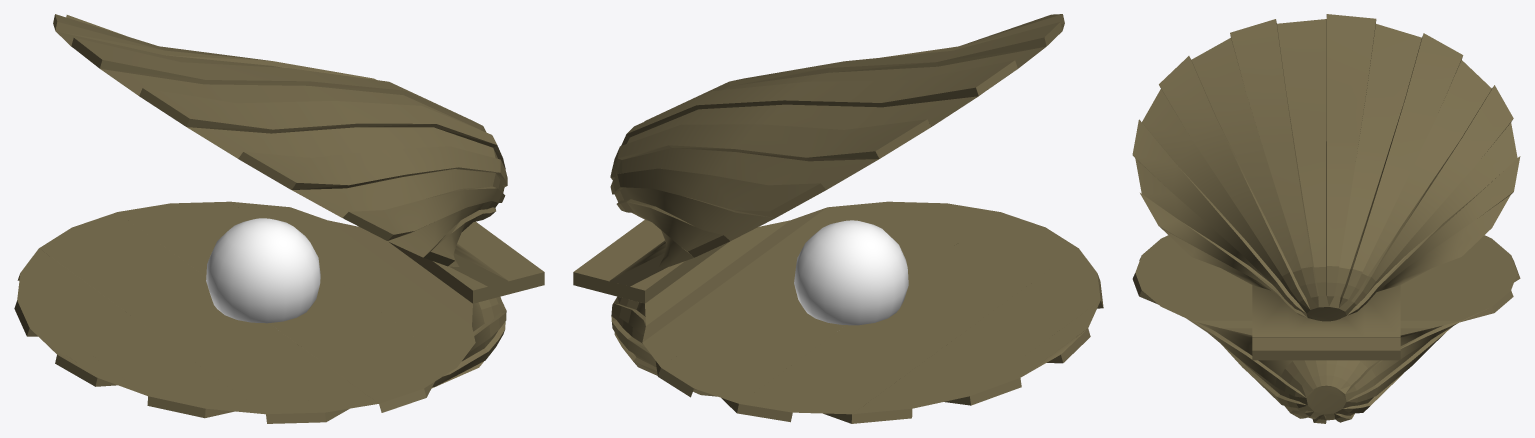
Rendered from Cache_Placeholder Model.fbx.
3 views of the same model, side by side, from view 1: azimuth 30°, elevation 25°; view 2: azimuth 150°, elevation 25°; view 3: azimuth 270°, elevation 25° (orthographic). The views are drawn at different scales.
Visible parts, largest first — view 1: Cone001, Cone002, Sphere002; view 2: Cone001, Cone002, Sphere002; view 3: Cone002, Cone001.
Boxes of the visible parts, left/top/right/bottom form: Cone001: left=14, top=201, right=544, bottom=423; Cone002: left=53, top=14, right=507, bottom=292; Sphere002: left=206, top=218, right=320, bottom=323; Cone001: left=573, top=201, right=1103, bottom=423; Cone002: left=610, top=14, right=1064, bottom=286; Sphere002: left=794, top=220, right=908, bottom=325; Cone002: left=1132, top=14, right=1520, bottom=337; Cone001: left=1132, top=235, right=1520, bottom=423.
Bounding box in the file's own units: 0.784 × 0.8148 × 0.6597.
